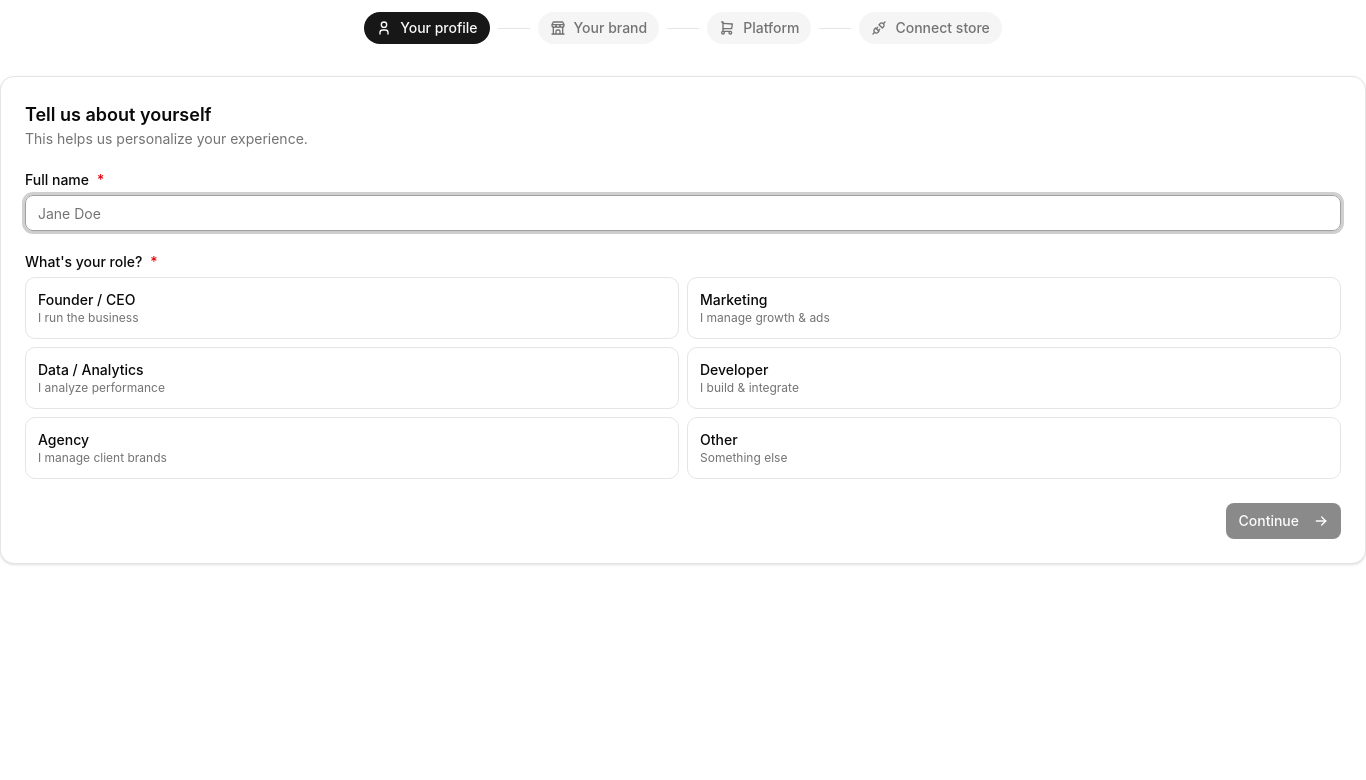
it: OnboardingForm — step sequence › can navigate back from brand to profile
Type "Test User" into the field with test id "input-fullname" at (683, 213), box [25,195,1341,231]
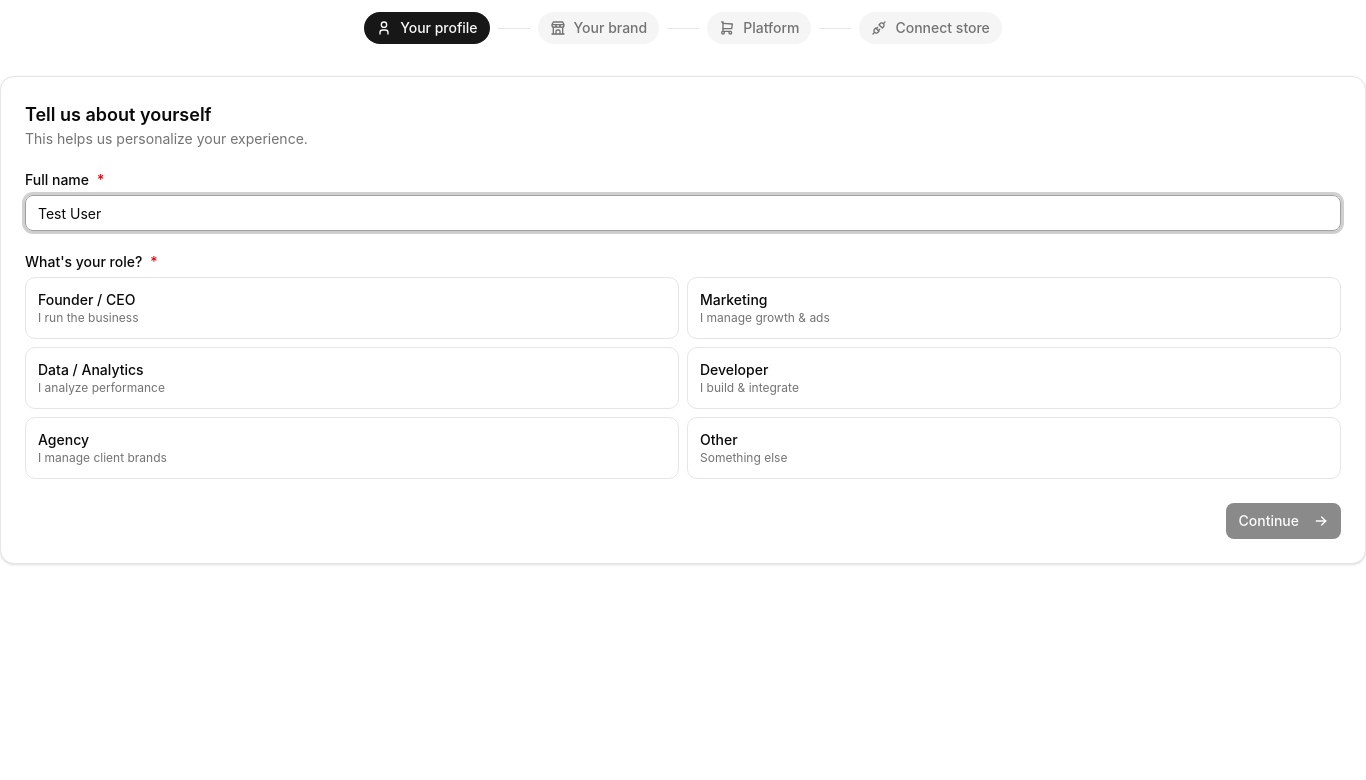
Click the radio button with test id "role-founder" at (87, 300), box [25,277,679,339]
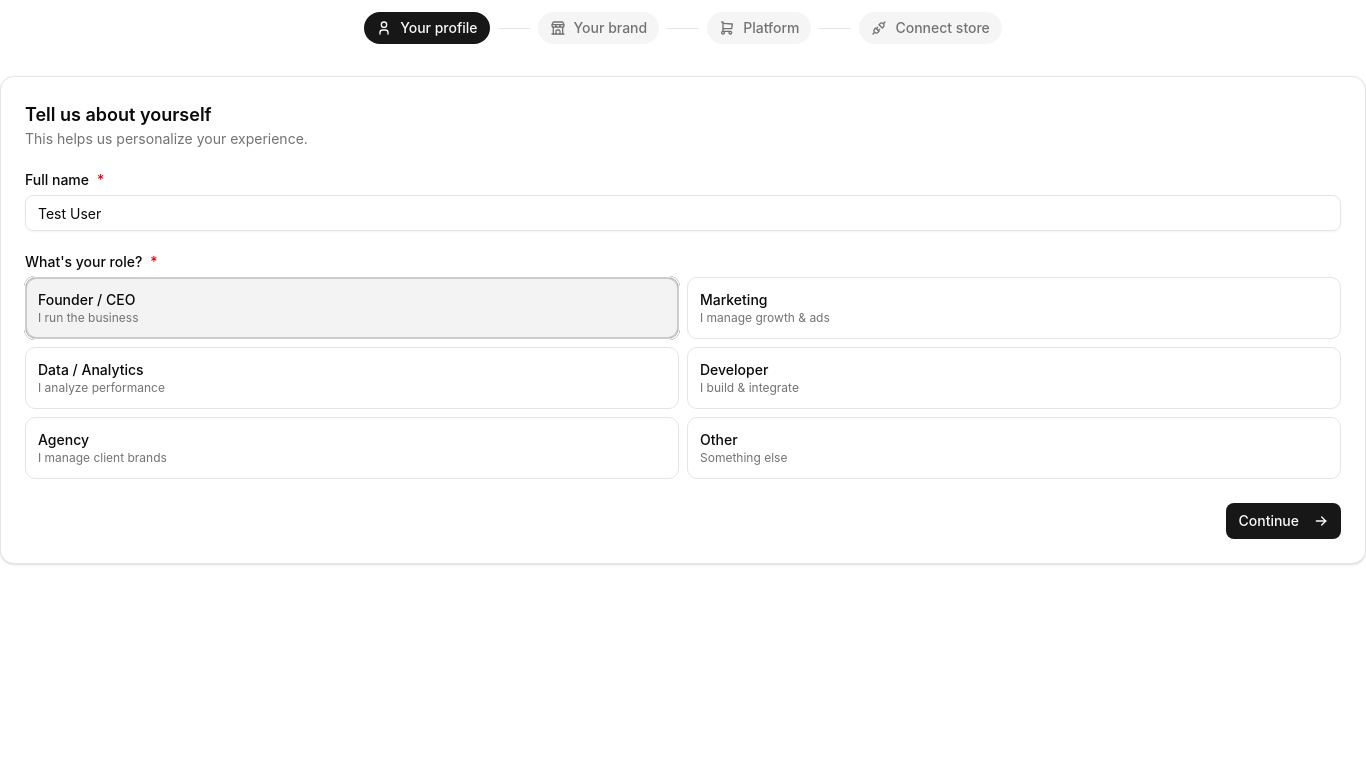
Click the button with test id "btn-continue" at (1284, 521), box [1226,503,1341,539]
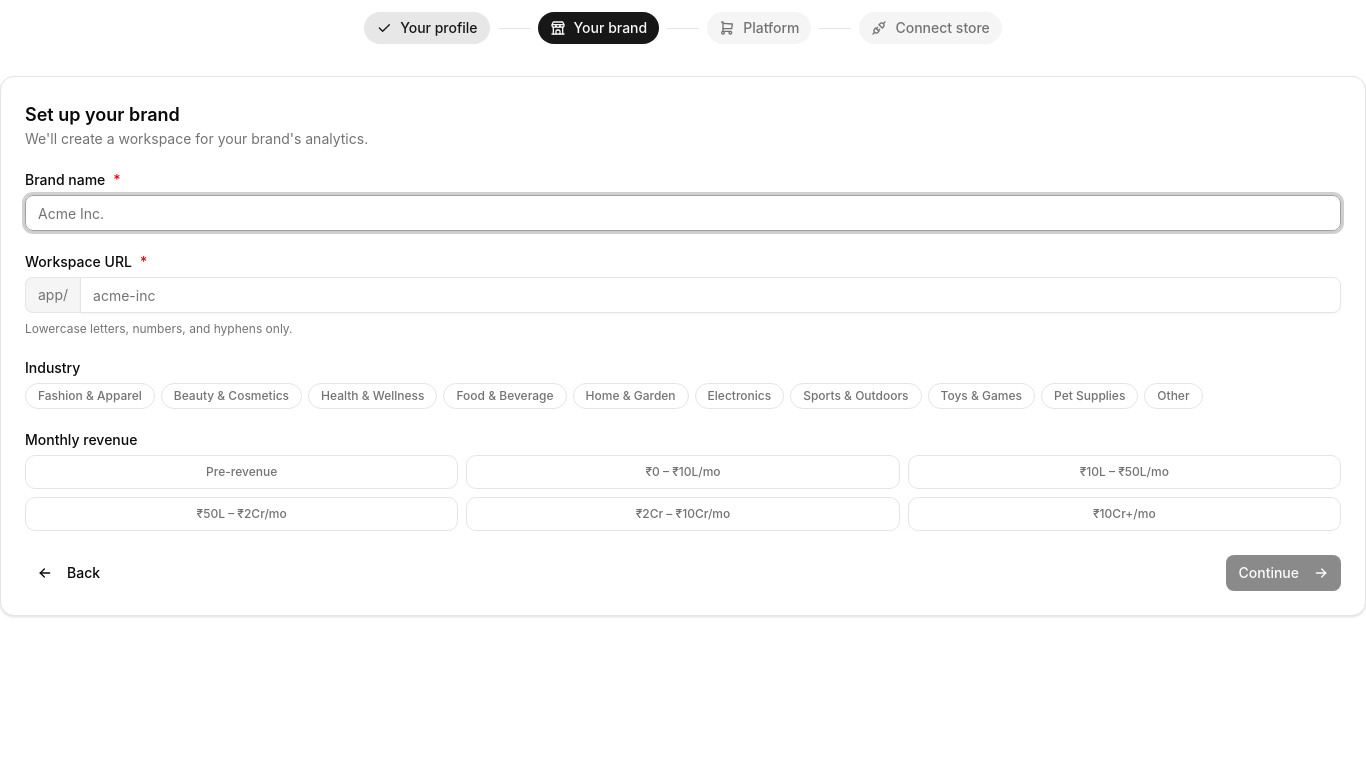
Click the button with test id "btn-back" at (69, 573), box [25,555,112,591]
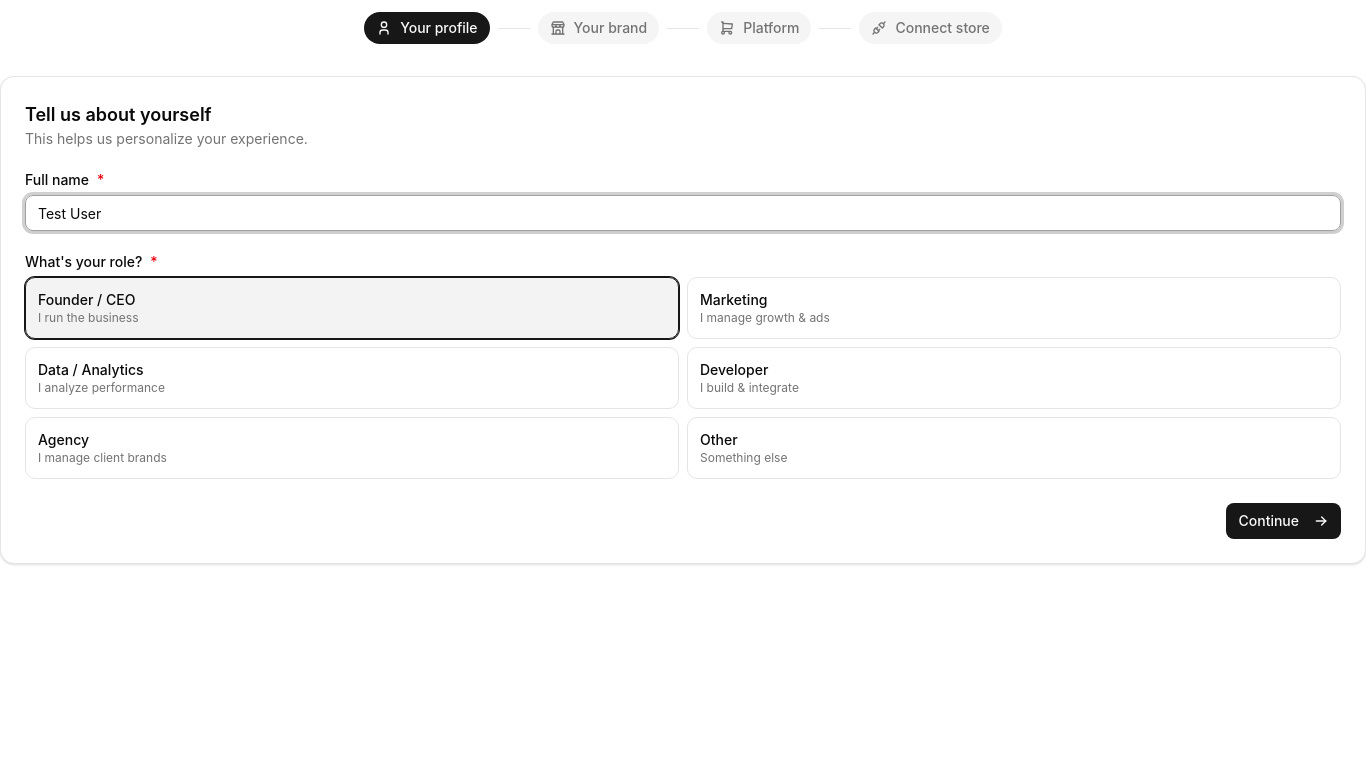
expect the element with test id "step-profile" is shown: met, box [25,101,1341,479]
